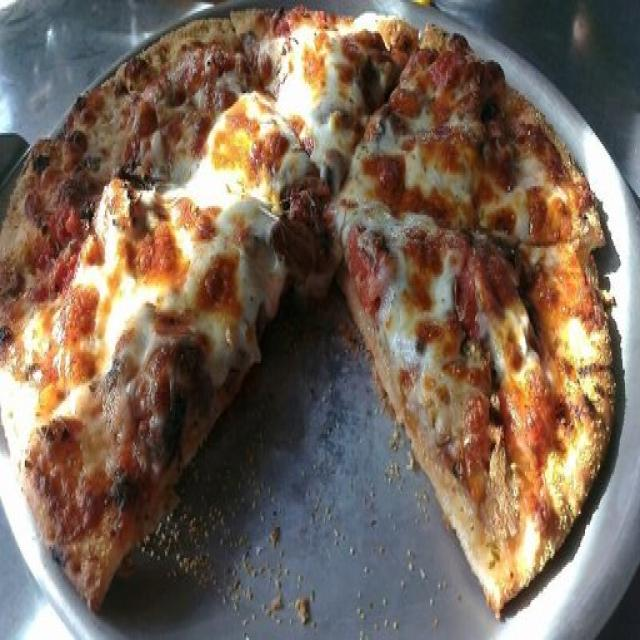Pizza: (0, 9, 613, 613)
